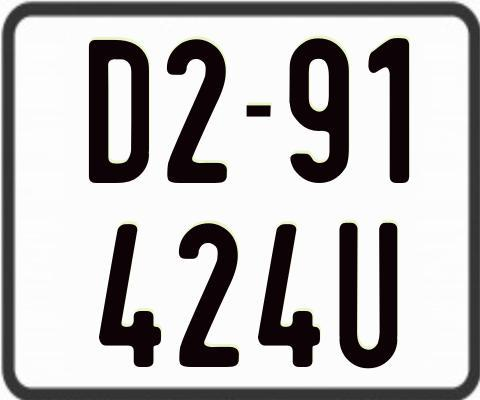1: (368, 36, 409, 185)
2: (167, 36, 230, 184), (177, 221, 240, 367)
4: (256, 222, 323, 368), (99, 224, 161, 369)
9: (289, 36, 351, 187)
D: (88, 37, 153, 181)
U: (336, 220, 395, 365)
